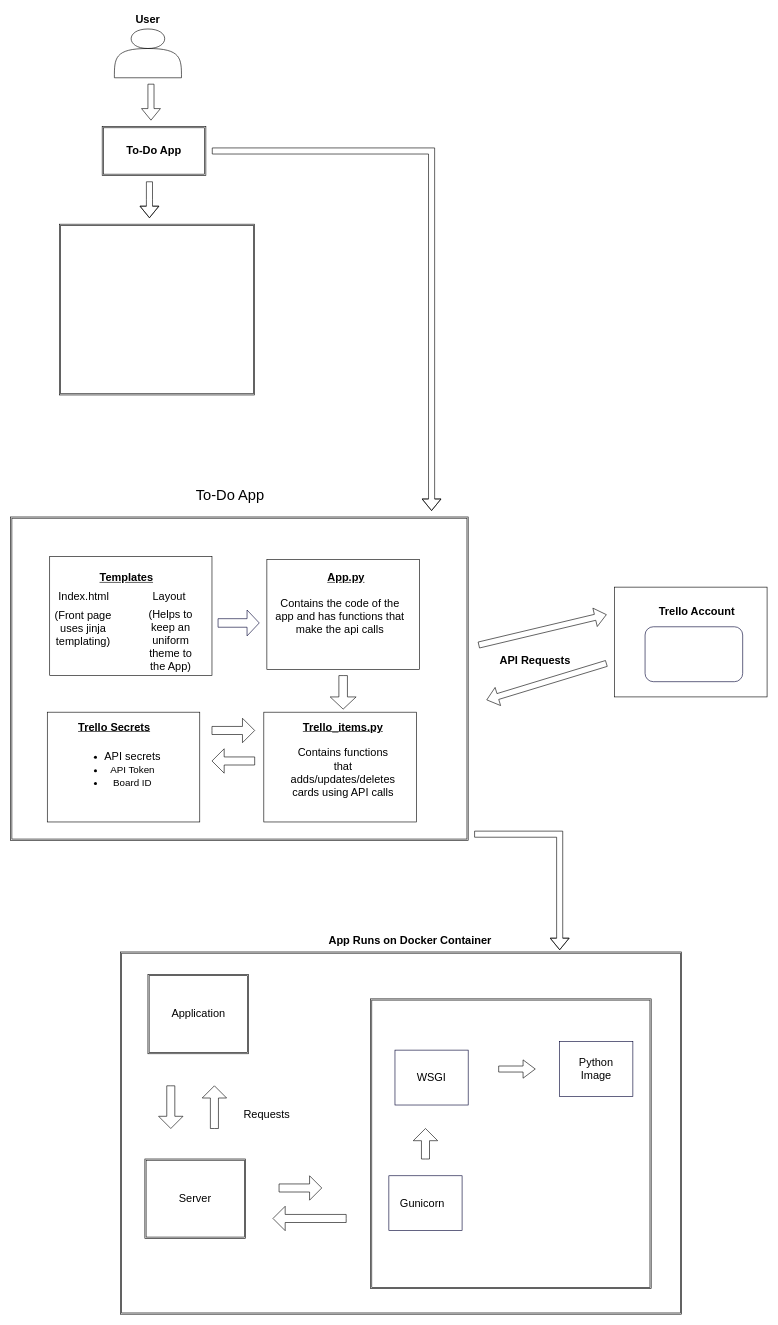
This 778x1325 diagram has some shape labels left out. The shapes that lost their labels are listed below. From the top down, each one's centre as x and y in pixels, then its label:
[157,309]: Docker Container
[693,654]: Trello Board with cards
